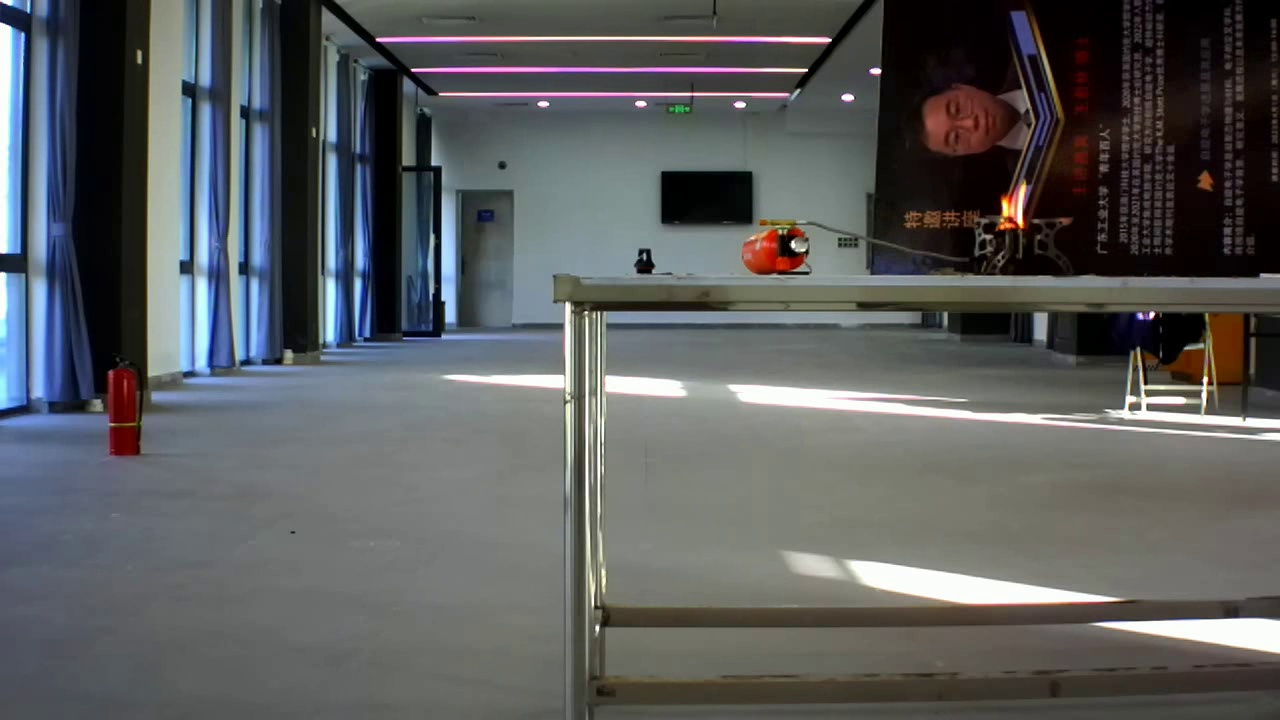Fire: (987, 183, 1038, 230)
